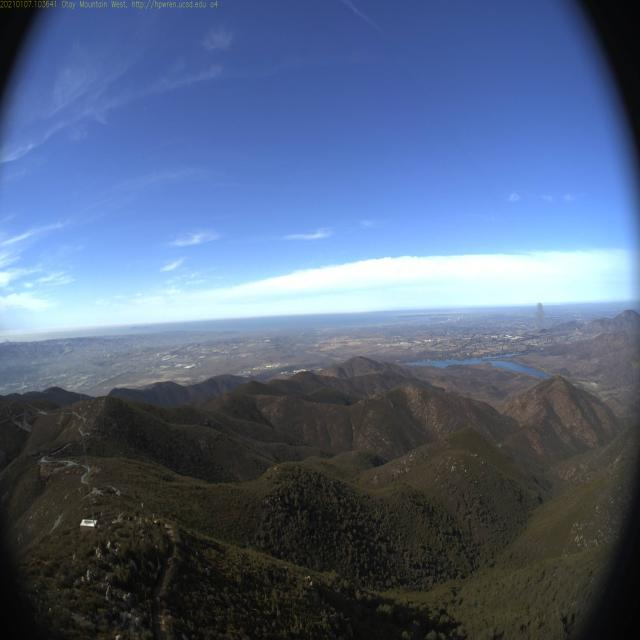smoke: (534, 302, 550, 332)
